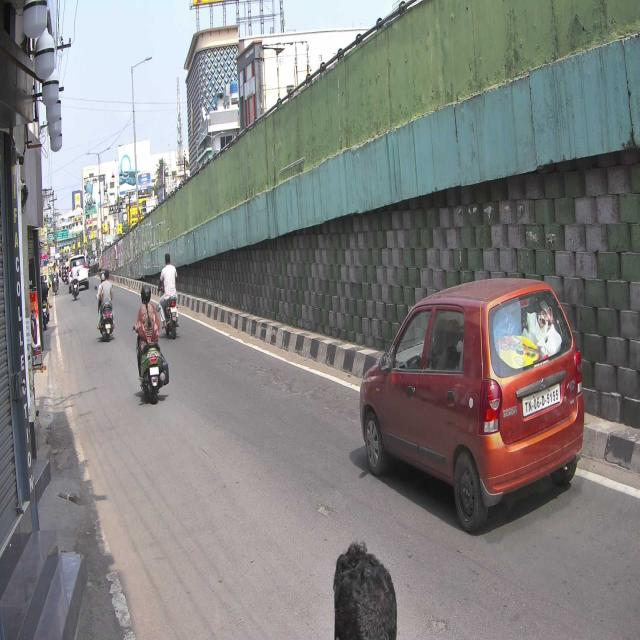single_rider: (131, 282, 169, 407)
